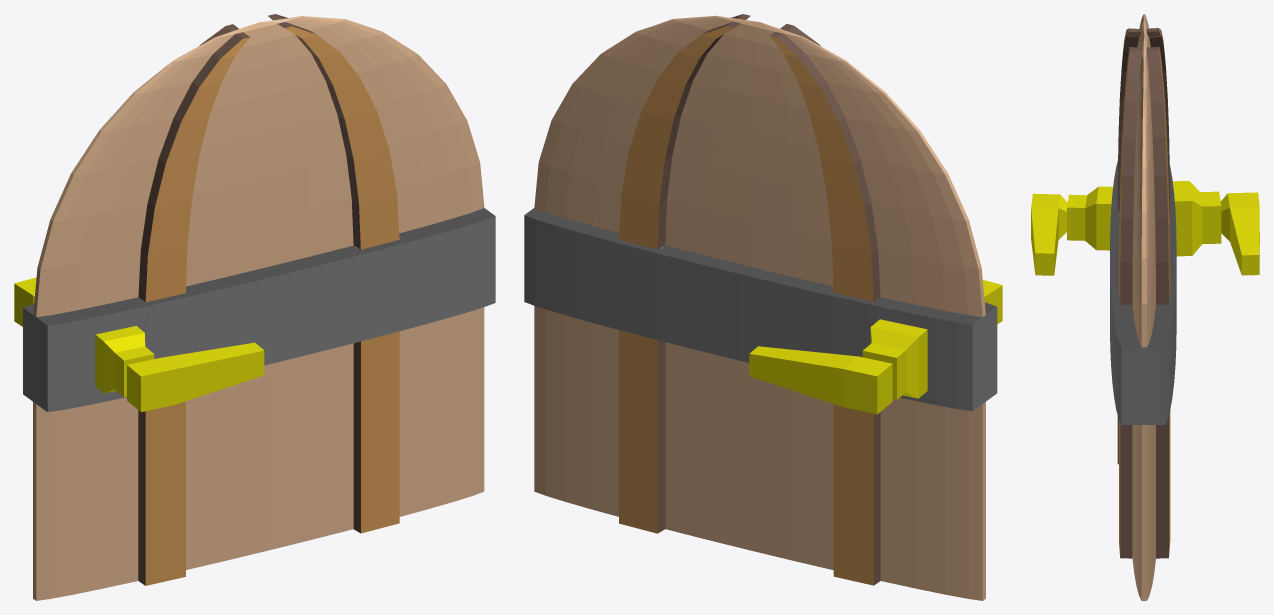
Rendered from color.fbx.
The picture shows the model from 3 angles, left to right: view 1: azimuth 30°, elevation 25°; view 2: azimuth 150°, elevation 25°; view 3: azimuth 270°, elevation 25°; orthographic projection. The views are drawn at different scales.
Parts seen in each view (by area): view 1: Sphere; view 2: Sphere; view 3: Sphere.
Part boxes in pixels (box(x1,y1,x2,y2)): Sphere: box(14, 14, 495, 600); Sphere: box(524, 14, 1002, 600); Sphere: box(1031, 14, 1259, 600).
Bounding box in the file's own units: 196 × 219 × 96.98.
